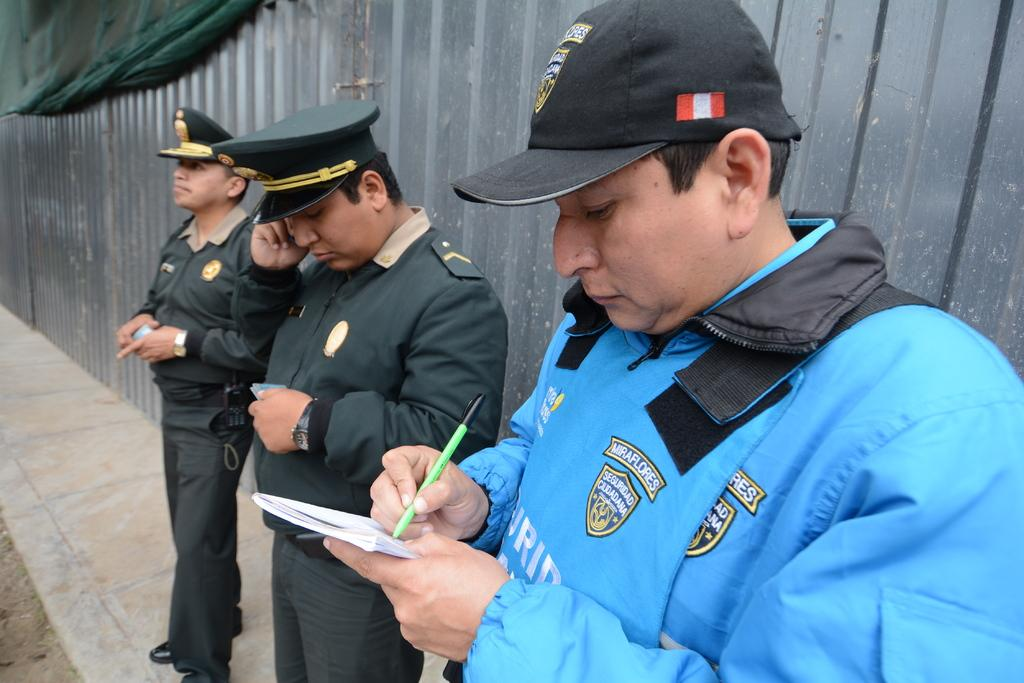Hat: (452, 0, 806, 206), (214, 98, 387, 224), (156, 108, 240, 158)
